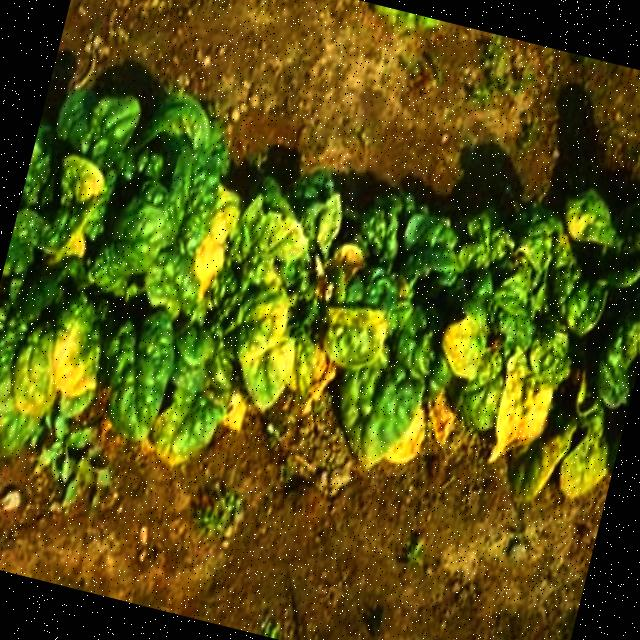Viral: (1, 144, 208, 408), (432, 239, 612, 464), (206, 198, 382, 417)
